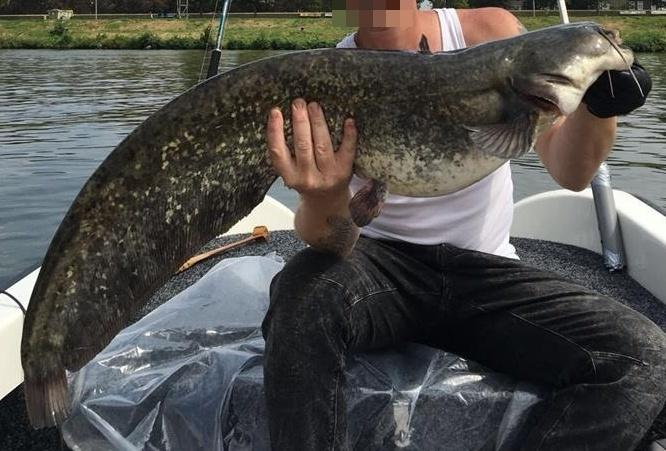Catfish: (19, 23, 630, 426)
